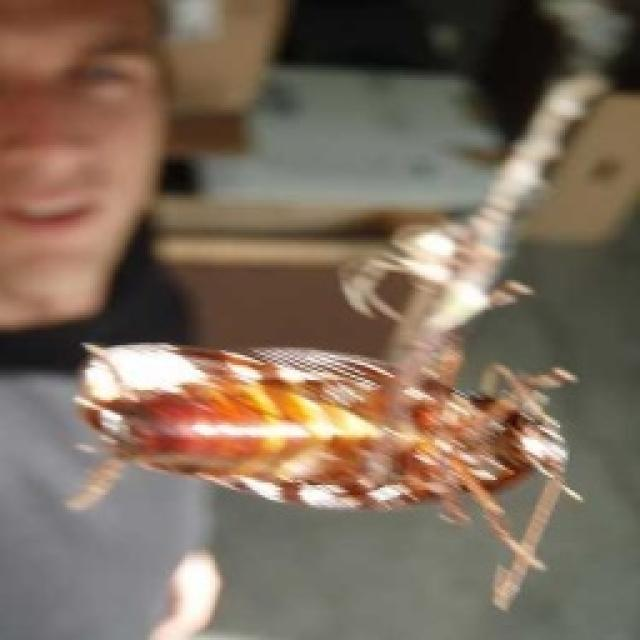cockroach: (68, 337, 582, 517)
